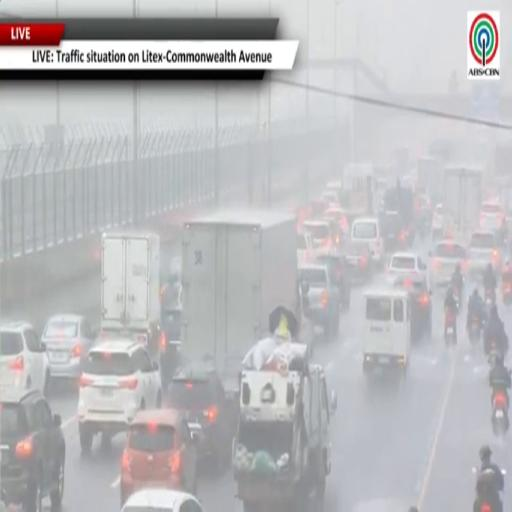car: (78, 341, 162, 454), (0, 390, 65, 511), (166, 362, 236, 470), (120, 409, 197, 506), (363, 291, 410, 377), (42, 314, 96, 380), (0, 323, 49, 393), (298, 265, 340, 339), (99, 322, 166, 365), (394, 276, 432, 340), (315, 254, 351, 310), (122, 488, 203, 511), (429, 239, 467, 286), (161, 304, 181, 388), (351, 218, 384, 268), (468, 231, 501, 276), (387, 252, 429, 284), (342, 242, 373, 282), (303, 220, 336, 252), (480, 201, 504, 232), (324, 206, 349, 234), (297, 232, 315, 265), (304, 199, 328, 221), (432, 204, 444, 242), (322, 190, 339, 207)
motorcycle: (492, 389, 509, 436), (469, 315, 482, 347), (445, 311, 456, 346), (488, 338, 500, 368), (501, 281, 512, 305), (484, 287, 495, 308), (480, 499, 495, 511), (453, 287, 460, 311)
truck: (181, 210, 299, 393), (233, 343, 336, 511), (101, 232, 163, 362), (443, 166, 483, 238), (379, 181, 415, 251), (342, 164, 376, 221), (418, 157, 443, 204), (495, 142, 511, 175)
